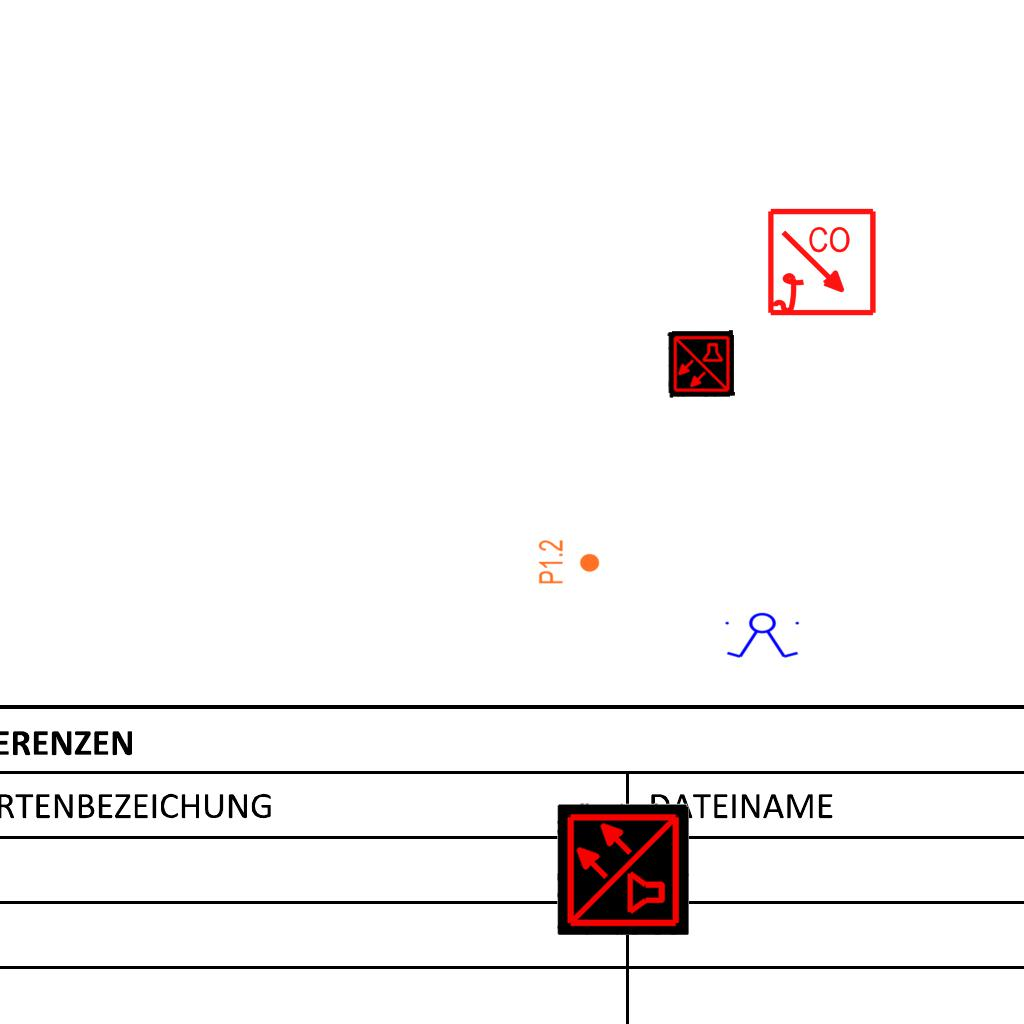Downlight_LED_Einbauleuchten_Flur: (537, 539, 601, 585)
OKW_Multisensormelder_(Kombination_optischer_Rauch-Kahlenmonoxid_Waerme-Melder): (557, 803, 689, 935), (667, 330, 735, 398)
ROA_Rauchmelder_optisch_mit_Signalgeber_(Sockelsirene): (766, 207, 879, 320)
Serienschalter: (721, 612, 805, 660)
